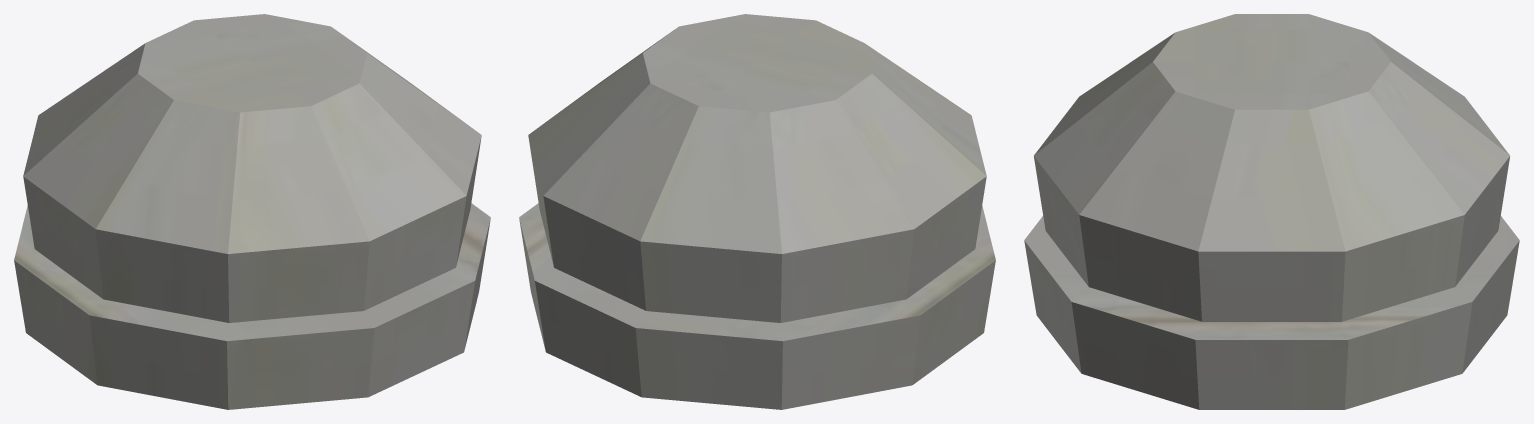
Rendered from eq_future_1_shoulder.glb.
3 renders of one model, left to right at view 1: azimuth 30°, elevation 25°; view 2: azimuth 150°, elevation 25°; view 3: azimuth 270°, elevation 25°, orthographic.
Visible parts, largest first — view 1: eq_future_1_shoulder; view 2: eq_future_1_shoulder; view 3: eq_future_1_shoulder.
Part boxes in pixels (x1=…): eq_future_1_shoulder: x1=14, y1=14, x2=490, y2=409; eq_future_1_shoulder: x1=519, y1=14, x2=995, y2=409; eq_future_1_shoulder: x1=1024, y1=14, x2=1519, y2=409.
Bounding box in the file's own units: 0.2275 × 0.135 × 0.2392.
Materials: 1 (1 with a texture image).
